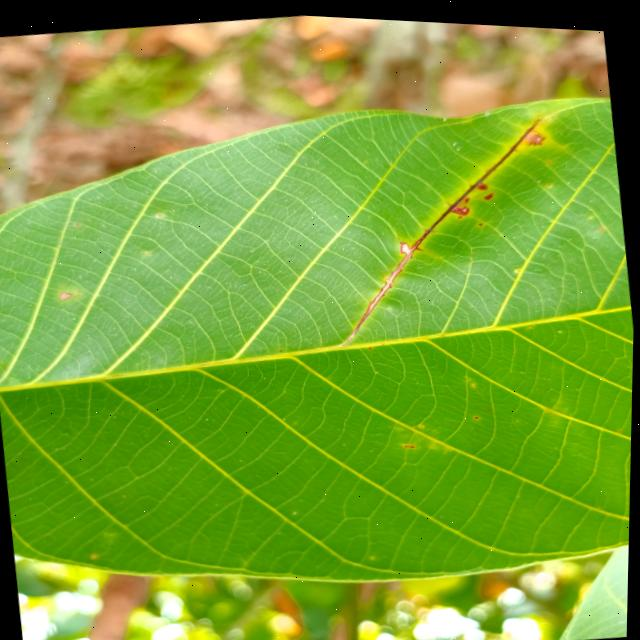Corynespora: (332, 103, 567, 335)
